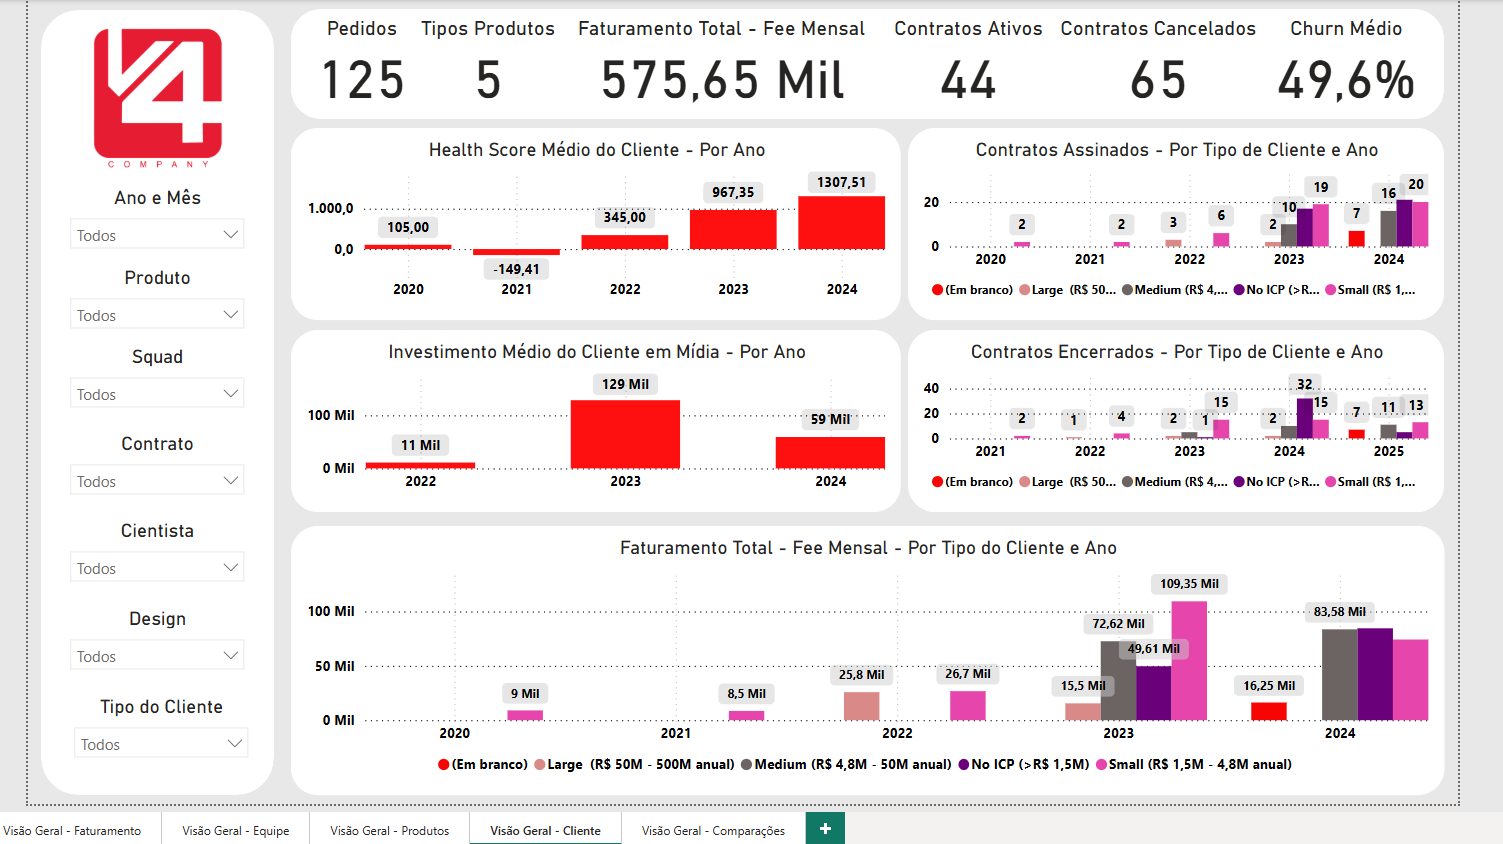

The page's visual inventory and layout, read from the dashboard file:
{"tool":"powerbi","page":{"name":"Visão Geral - Cliente","canvas":[1280,720],"ordinal":3},"visuals":[{"type":"shape","box":[11.6,9,208.7,703],"z":0},{"type":"shape","box":[235.5,8.1,1032.5,98.5],"z":1000},{"type":"card","title":"Faturamento Total - Fee Mensal","fields":{"Values":["Sum(Sheet1.Fee Mensal)"]},"box":[474.6,14.3,292.8,85.1],"z":2000},{"type":"card","title":"Contratos Ativos","fields":{"Values":["CountNonNull(Sheet1.situacao)"]},"box":[767.5,14.3,149.6,85.1],"z":3000},{"type":"image","box":[36.7,14.3,159.4,146.9],"z":4000},{"type":"clusteredColumnChart","title":"Faturamento Total - Fee Mensal - Por Tipo do Cliente e Ano","fields":{"Y":["Sum(Sheet1.Fee Mensal)"],"Category":["Sheet1.Data da Assinatura .Variation.Hierarquia de datas.Ano"],"Series":["Sheet1.Faturamento"]},"box":[235.5,471,1032.5,240.9],"z":5000},{"type":"slicer","title":"Ano e Mês","fields":{"Values":["Sheet1.Data da Assinatura .Variation.Hierarquia de datas.Ano","Sheet1.Data da Assinatura .Variation.Hierarquia de datas.Mês"]},"box":[27.8,166.6,176.4,71.6],"z":6000},{"type":"slicer","title":"Squad","fields":{"Values":["Sheet1.Squad"]},"box":[27.8,309,176.4,77.9],"z":7000},{"type":"slicer","title":"Produto","fields":{"Values":["Sheet1.Produto"]},"box":[27.8,238.2,176.4,70.7],"z":8000},{"type":"columnChart","title":"Health Score Médio do Cliente - Por Ano","fields":{"Category":["Sheet1.Data da Assinatura .Variation.Hierarquia de datas.Ano"],"Y":["Sum(Sheet1.Health Score)"]},"box":[235.5,114.6,546.3,171.9],"z":9000},{"type":"columnChart","title":"Investimento Médio do Cliente em Mídia - Por Ano","fields":{"Category":["Sheet1.Data da Assinatura .Variation.Hierarquia de datas.Ano"],"Y":["Sum(Sheet1.Investimento em mídia)"]},"box":[235.5,295.5,546.3,163],"z":10000},{"type":"slicer","title":"Contrato","fields":{"Values":["Sheet1.situacao"]},"box":[27.8,386.9,176.4,77.9],"z":11000},{"type":"slicer","title":"Cientista","fields":{"Values":["Sheet1.Cientista"]},"box":[27.8,464.8,176.4,78.8],"z":12000},{"type":"slicer","title":"Design","fields":{"Values":["Sheet1.Designer"]},"box":[27.8,543.6,176.4,78.8],"z":13000},{"type":"clusteredColumnChart","title":"Contratos Encerrados - Por Tipo de Cliente e Ano","fields":{"Category":["Sheet1.datafimcontrato.Variation.Hierarquia de datas.Ano"],"Y":["CountNonNull(Sheet1.datafimcontrato)"],"Series":["Sheet1.Faturamento"]},"box":[788.1,295.5,480,163],"z":14000},{"type":"clusteredColumnChart","title":"Contratos Assinados - Por Tipo de Cliente e Ano","fields":{"Category":["Sheet1.Data da Assinatura .Variation.Hierarquia de datas.Ano"],"Y":["CountNonNull(Sheet1.Data da Assinatura )"],"Series":["Sheet1.Faturamento"]},"box":[788.1,114.6,480,171.9],"z":15000},{"type":"card","title":"Contratos Cancelados","fields":{"Values":["CountNonNull(Sheet1.situacao)"]},"box":[917,14.3,190.7,85.1],"z":16000},{"type":"card","title":"Pedidos","fields":{"Values":["CountNonNull(Sheet1.Clientes)"]},"box":[248.1,14.3,102.1,85.1],"z":17000},{"type":"card","title":"Churn Médio","fields":{"Values":["Sheet1.Medida"]},"box":[1107.8,14.3,146,85.1],"z":18000},{"type":"slicer","title":"Tipo do Cliente","fields":{"Values":["Sheet1.Faturamento"]},"box":[31.3,622.4,176.4,78.8],"z":19000},{"type":"card","title":"Tipos Produtos","fields":{"Values":["Count(Sheet1.Produto)"]},"box":[343,14.3,137.9,85.1],"z":20000}]}

Visuals, with their boxes on the page's 1280x720 design canvas (x1, y1, x2, y2). These are canvas units, not pixel positions in the 1503x844 screenshot, which may show the page scaled, cropped or inside an application window:
shape: 12 9 220 712
shape: 236 8 1268 107
"Faturamento Total - Fee Mensal" card: 475 14 767 99
"Contratos Ativos" card: 768 14 917 99
image: 37 14 196 161
"Faturamento Total - Fee Mensal - Por Tipo do Cliente e Ano" clusteredColumnChart: 236 471 1268 712
"Ano e Mês" slicer: 28 167 204 238
"Squad" slicer: 28 309 204 387
"Produto" slicer: 28 238 204 309
"Health Score Médio do Cliente - Por Ano" columnChart: 236 115 782 286
"Investimento Médio do Cliente em Mídia - Por Ano" columnChart: 236 296 782 458
"Contrato" slicer: 28 387 204 465
"Cientista" slicer: 28 465 204 544
"Design" slicer: 28 544 204 622
"Contratos Encerrados - Por Tipo de Cliente e Ano" clusteredColumnChart: 788 296 1268 458
"Contratos Assinados - Por Tipo de Cliente e Ano" clusteredColumnChart: 788 115 1268 286
"Contratos Cancelados" card: 917 14 1108 99
"Pedidos" card: 248 14 350 99
"Churn Médio" card: 1108 14 1254 99
"Tipo do Cliente" slicer: 31 622 208 701
"Tipos Produtos" card: 343 14 481 99
